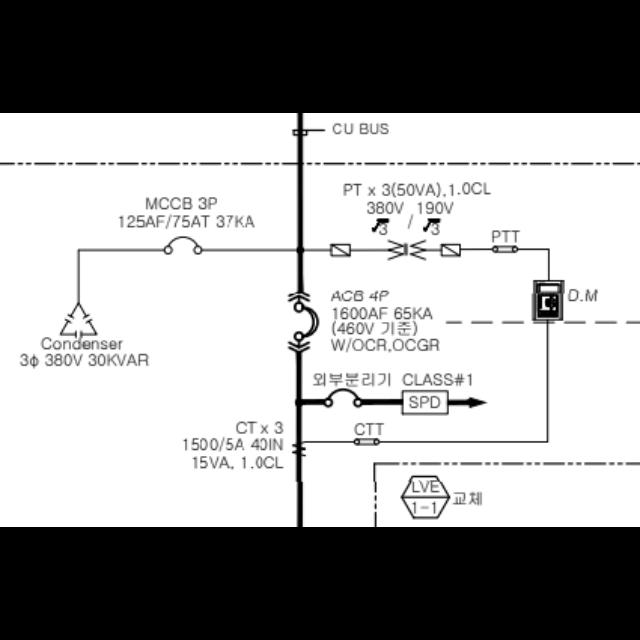ACB: (296, 303, 320, 339)
CT: (294, 442, 306, 458)
MCCB: (164, 236, 202, 254), (326, 389, 360, 407)
PF2: (442, 245, 461, 258), (331, 244, 351, 256)
PT: (389, 240, 425, 260)
SC: (61, 306, 97, 340)
